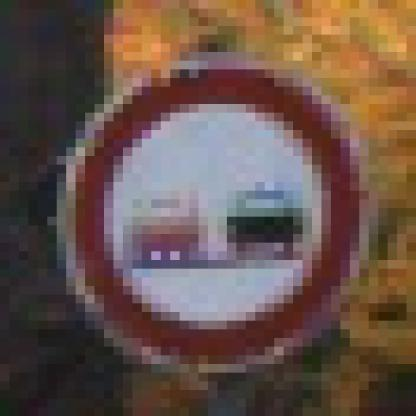No Overtaking: (58, 53, 370, 374)
